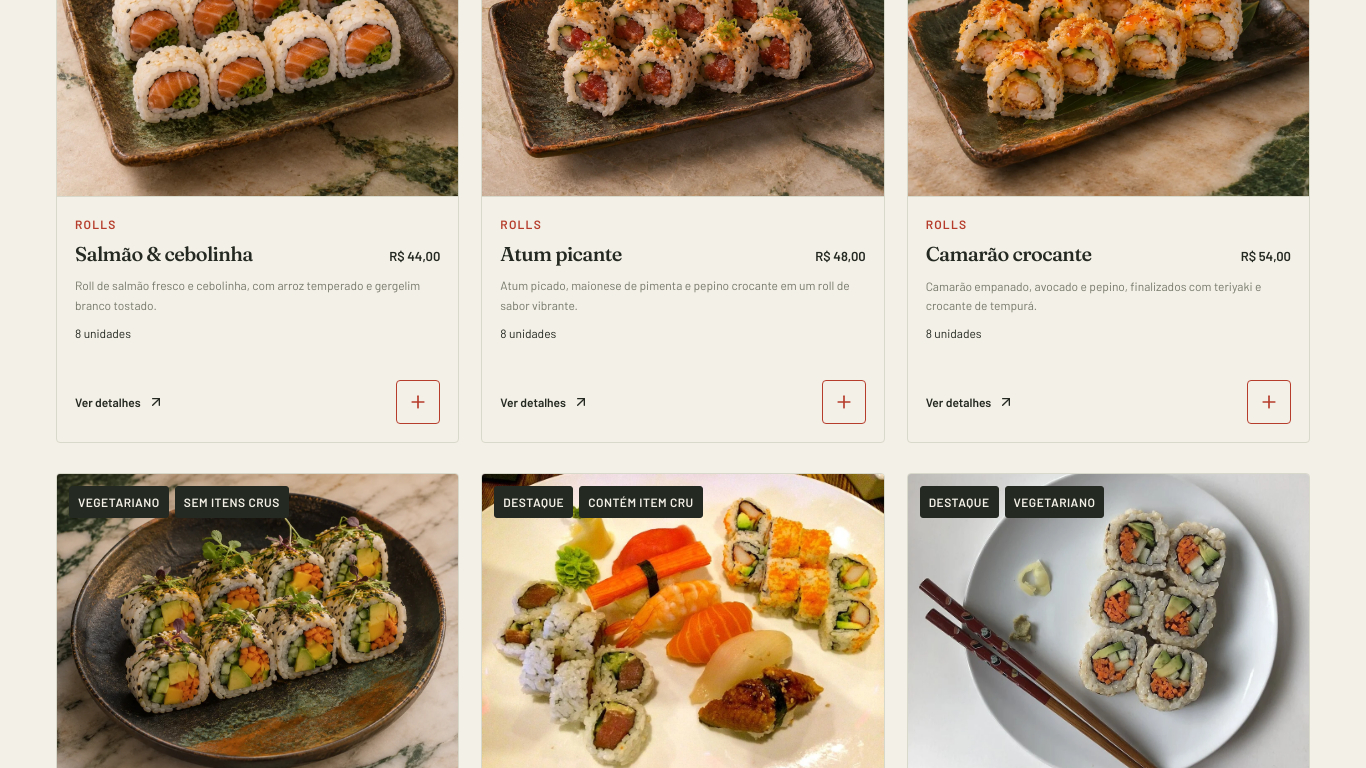
Test: DigitalMenu › abre os detalhes em vez de adicionar rapidamente quando há opção obrigatória
The image size is (1366, 768).
(page scrolled)
Click the button named "Adicionar Atum picante à sacola".
click(844, 402)  # box [822, 380, 866, 424]
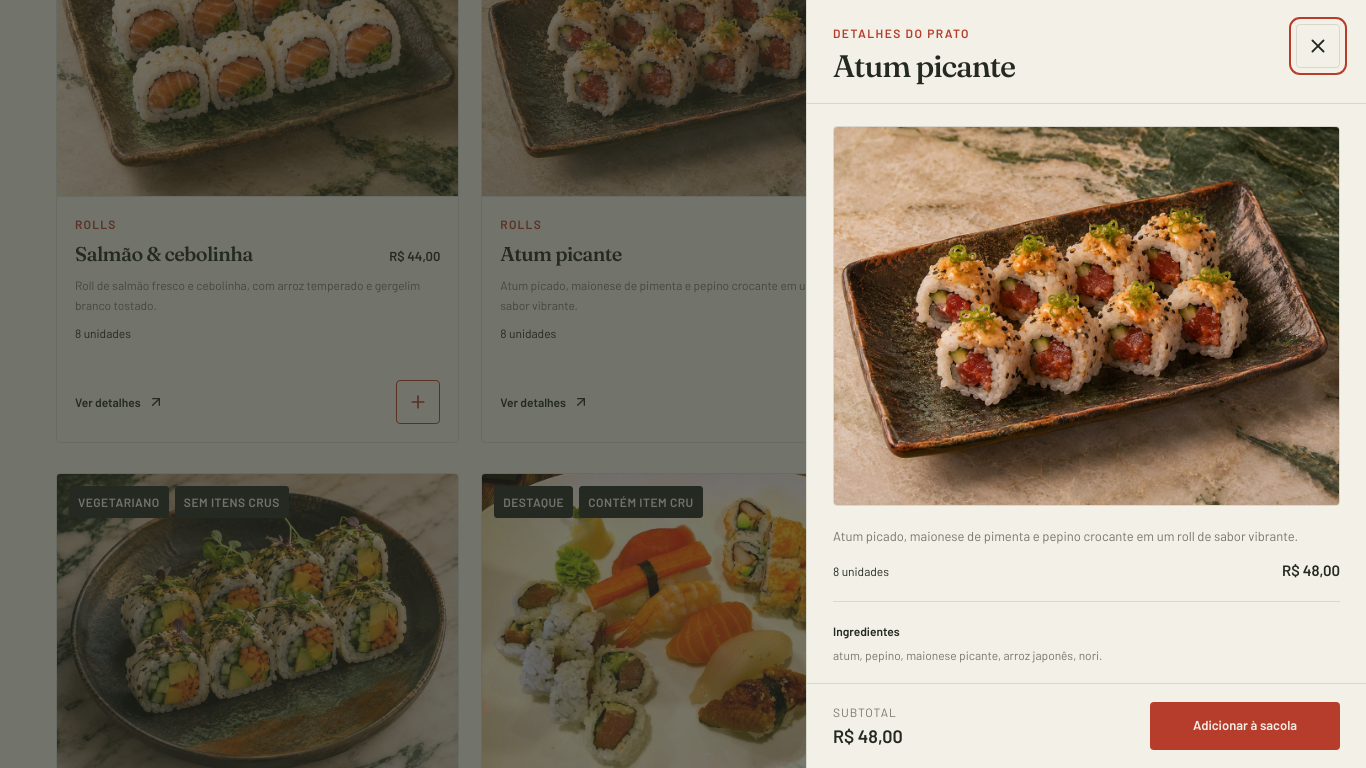
Expected: the dialog "Atum picante" is shown, [806, 0, 1365, 767]
